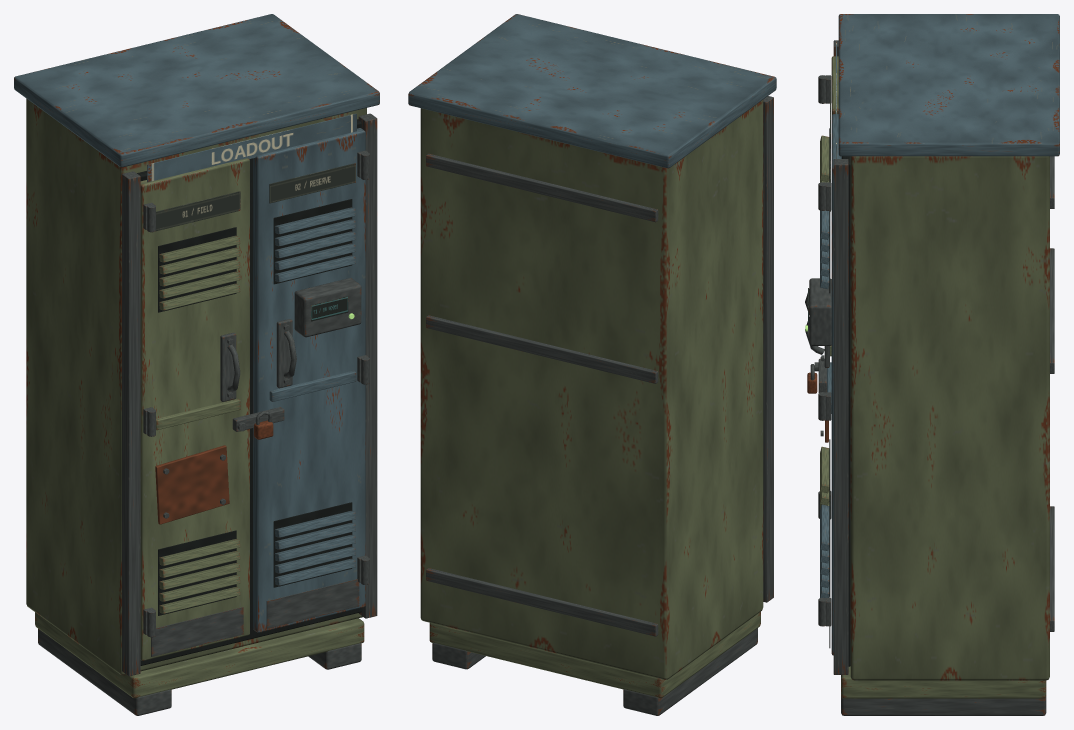
The model's file is NC_LoadoutLocker.fbx.
3 views of the same model, side by side, from view 1: azimuth 30°, elevation 25°; view 2: azimuth 150°, elevation 25°; view 3: azimuth 270°, elevation 25° (orthographic). The views are drawn at different scales.
Parts seen in each view (by area): view 1: NC_LoadoutLocker_LOD0; view 2: NC_LoadoutLocker_LOD0; view 3: NC_LoadoutLocker_LOD0.
Part boxes in pixels (x1,y1,x2,y2): NC_LoadoutLocker_LOD0: [14, 14, 379, 715]; NC_LoadoutLocker_LOD0: [408, 14, 776, 715]; NC_LoadoutLocker_LOD0: [805, 14, 1059, 715].
Size of what is drawn, in the model's own units: 0.931 by 1.94 by 0.7704.
Materials: 1 (1 with a texture image).
